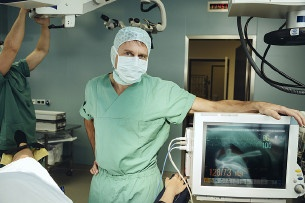Mask: (114, 49, 149, 84)
